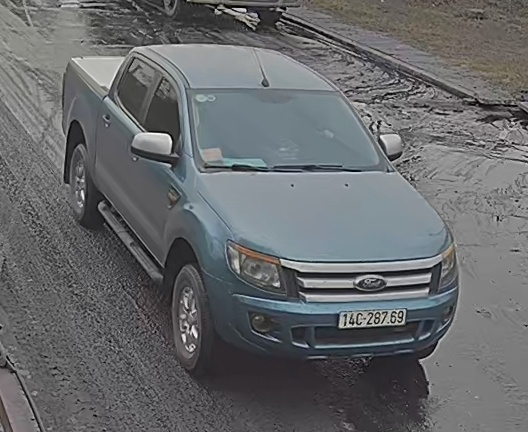vehicle plate: (339, 308, 411, 329)
